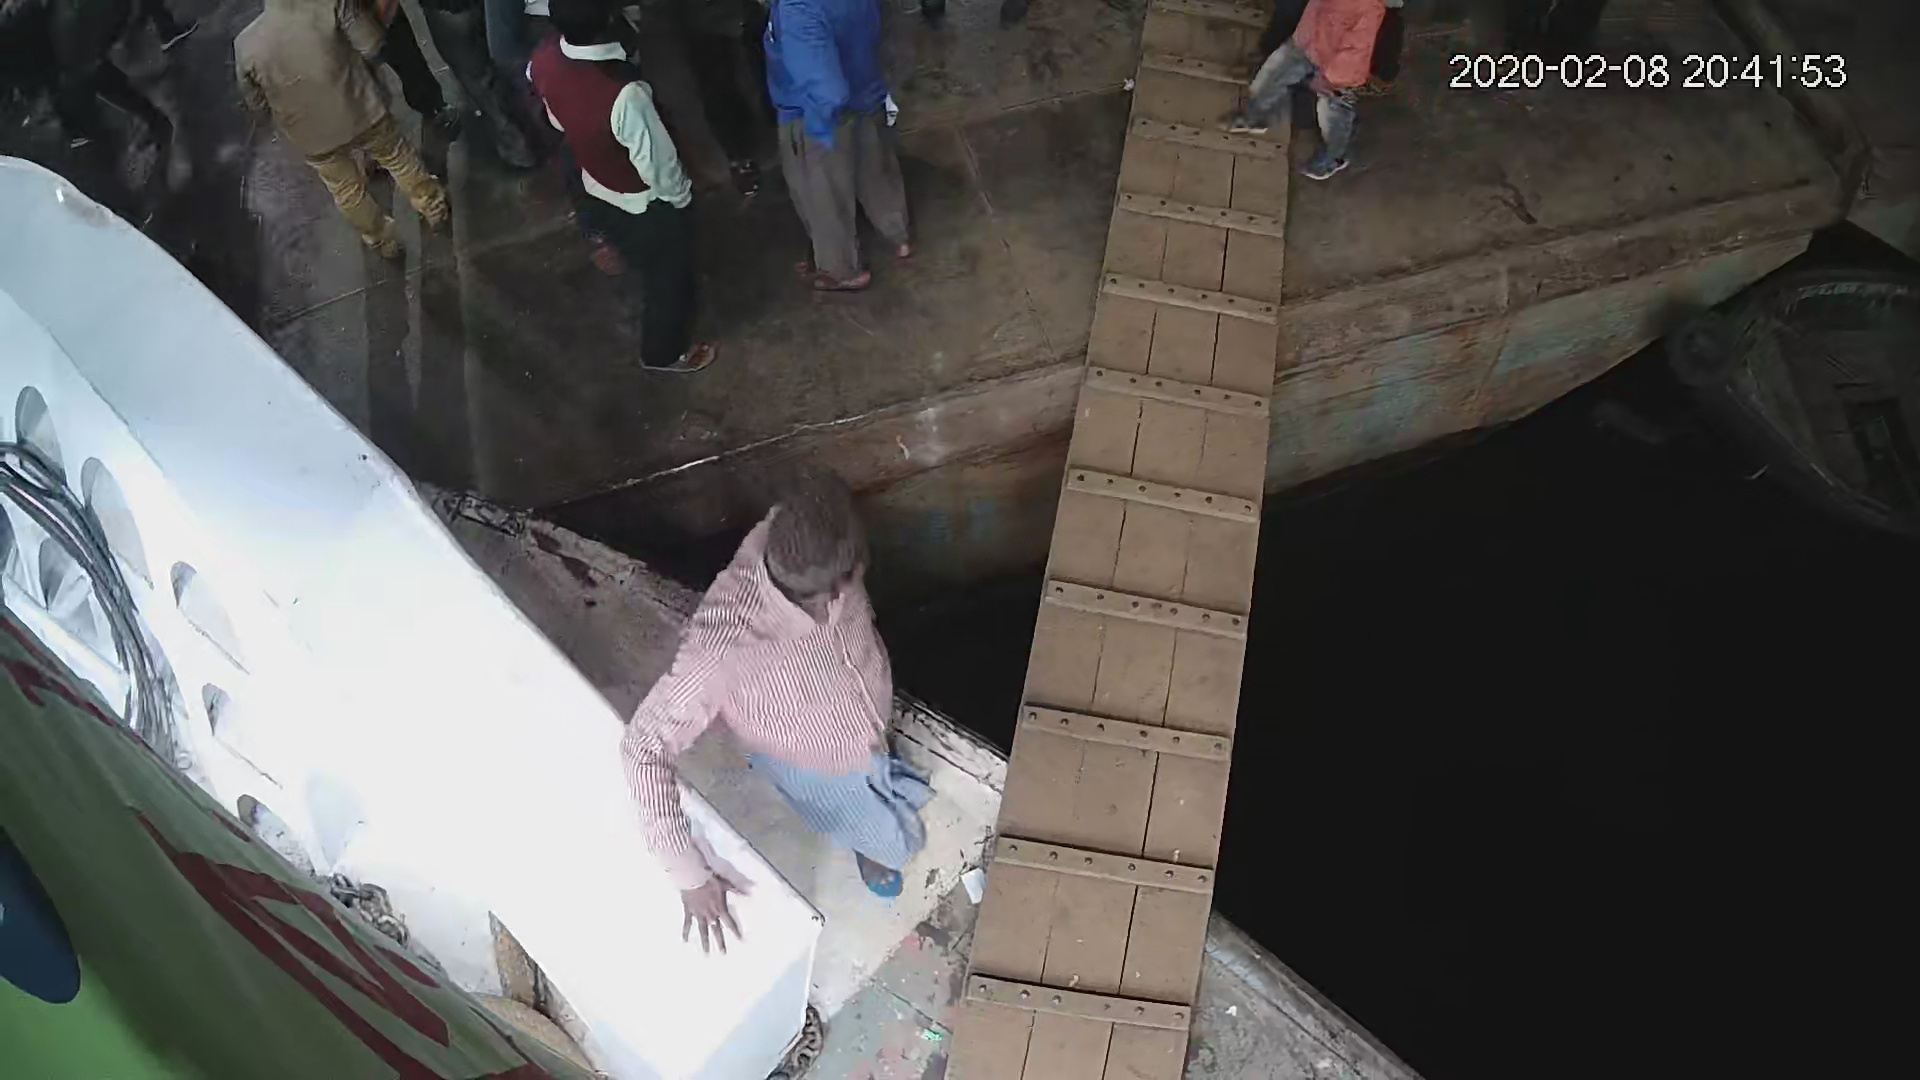person: (677, 482, 927, 899), (504, 3, 721, 384), (223, 1, 461, 276), (751, 1, 915, 301)
